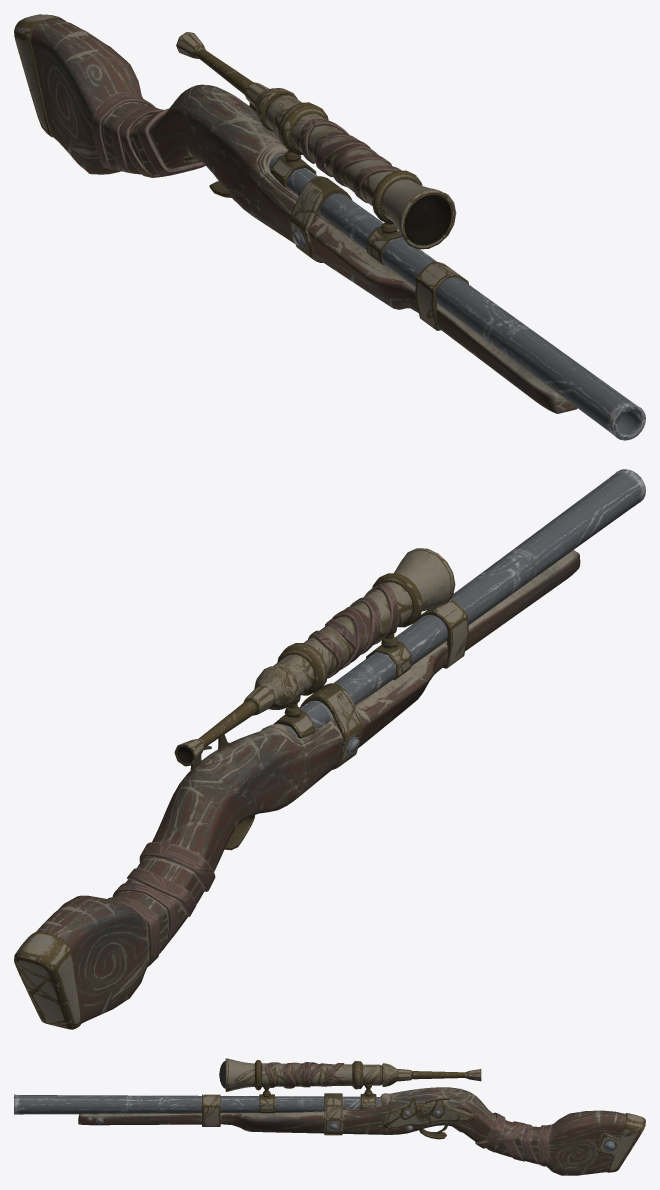
File: pirate_rifle.glb
The picture shows the model from 3 angles, top to bottom: view 1: azimuth 30°, elevation 25°; view 2: azimuth 150°, elevation 25°; view 3: azimuth 270°, elevation 25°; orthographic projection. The views are drawn at different scales.
Parts seen in each view (by area): view 1: Body.002; view 2: Body.002; view 3: Body.002.
Part boxes in pixels (x1=…): Body.002: x1=14, y1=14, x2=645, y2=440; Body.002: x1=14, y1=469, x2=645, y2=1029; Body.002: x1=14, y1=1058, x2=645, y2=1175.
Bounding box in the file's own units: 0.087 × 0.266 × 1.36.
7 materials, 6 textured.
